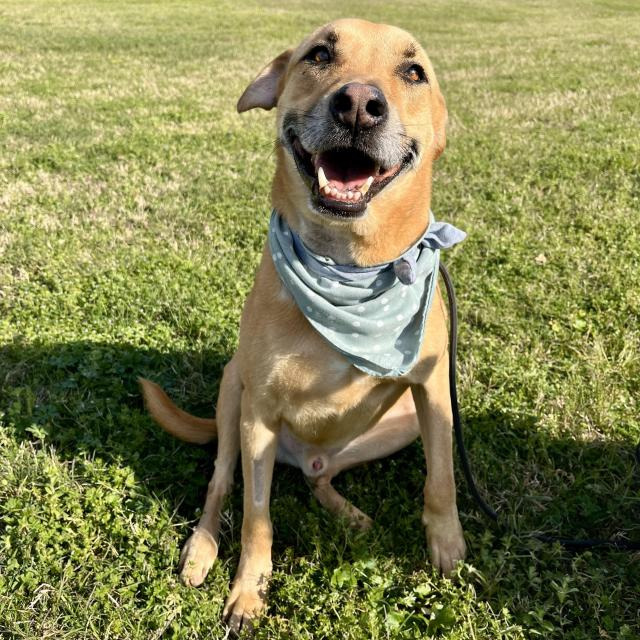labrador_retriever_dog: (222, 9, 485, 245)
